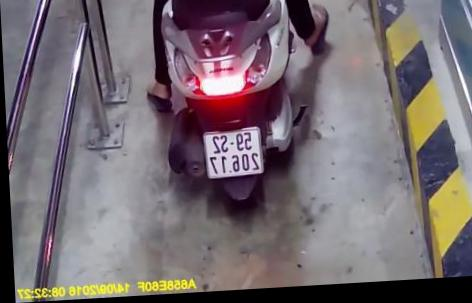License_Plate: (202, 123, 269, 181)
